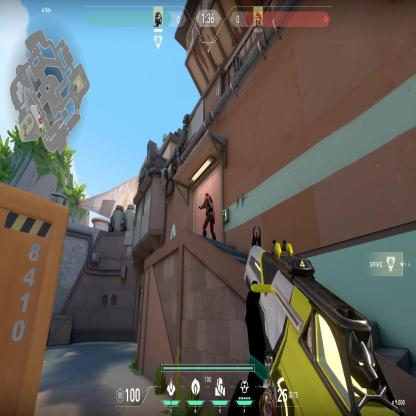enemy: (198, 191, 217, 242)
